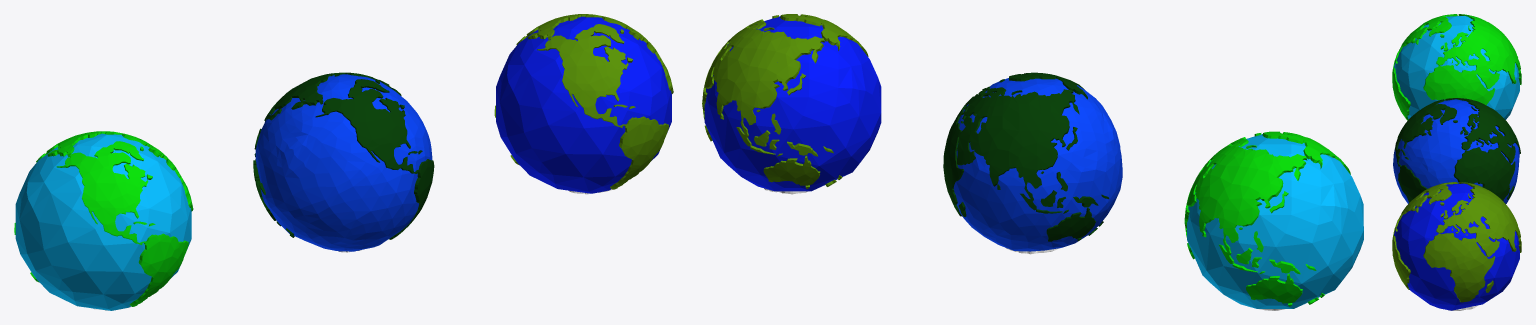
The model's file is earth.FBX.
3 views of the same model, side by side, from view 1: azimuth 30°, elevation 25°; view 2: azimuth 150°, elevation 25°; view 3: azimuth 270°, elevation 25° (orthographic). The views are drawn at different scales.
Parts seen in each view (by area): view 1: Cartoon low poly Earth 2 (oceans have more subdivisions), Cartoon low poly Earth 3 backup model, Cartoon low poly Earth 1; view 2: Cartoon low poly Earth 2 (oceans have more subdivisions), Cartoon low poly Earth 3 backup model, Cartoon low poly Earth 1; view 3: Cartoon low poly Earth 3 backup model, Cartoon low poly Earth 1, Cartoon low poly Earth 2 (oceans have more subdivisions).
Part boxes in pixels (<box>): Cartoon low poly Earth 2 (oceans have more subdivisions): <box>253,72,434,252</box>; Cartoon low poly Earth 3 backup model: <box>494,14,673,194</box>; Cartoon low poly Earth 1: <box>14,131,193,310</box>; Cartoon low poly Earth 2 (oceans have more subdivisions): <box>943,72,1122,254</box>; Cartoon low poly Earth 3 backup model: <box>702,14,881,194</box>; Cartoon low poly Earth 1: <box>1184,131,1363,310</box>; Cartoon low poly Earth 3 backup model: <box>1392,182,1521,310</box>; Cartoon low poly Earth 1: <box>1392,14,1521,120</box>; Cartoon low poly Earth 2 (oceans have more subdivisions): <box>1393,98,1520,203</box>.
Bounding box in the file's own units: 41.66 × 10.23 × 10.27.
